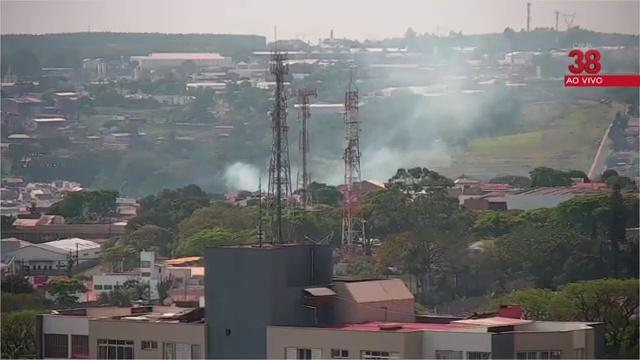smoke: (366, 96, 481, 177)
